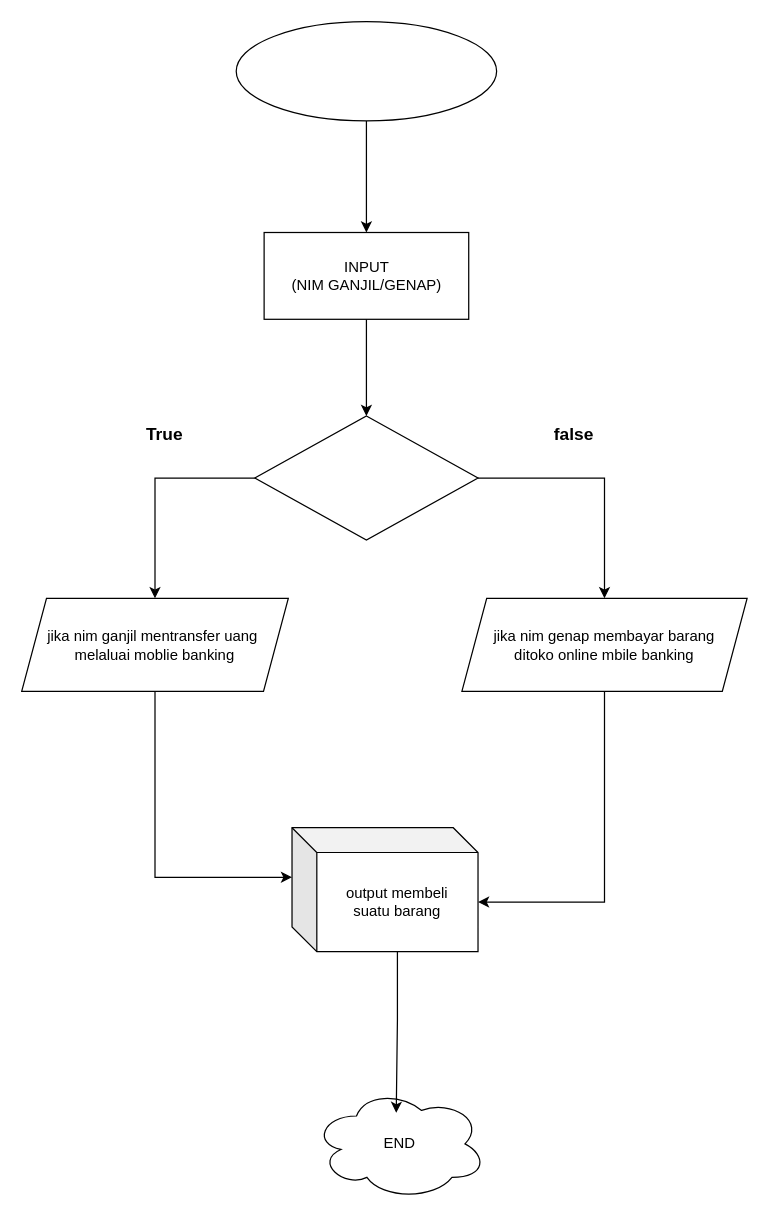
Some shapes in this 769 by 1221 pixel diagram are drawn without their labels. The centre of each missing label's shape, as x and y in pixels:
"check apakah nim Ganjil/genap" belongs at point 366,477.
"START" belongs at point 366,70.
